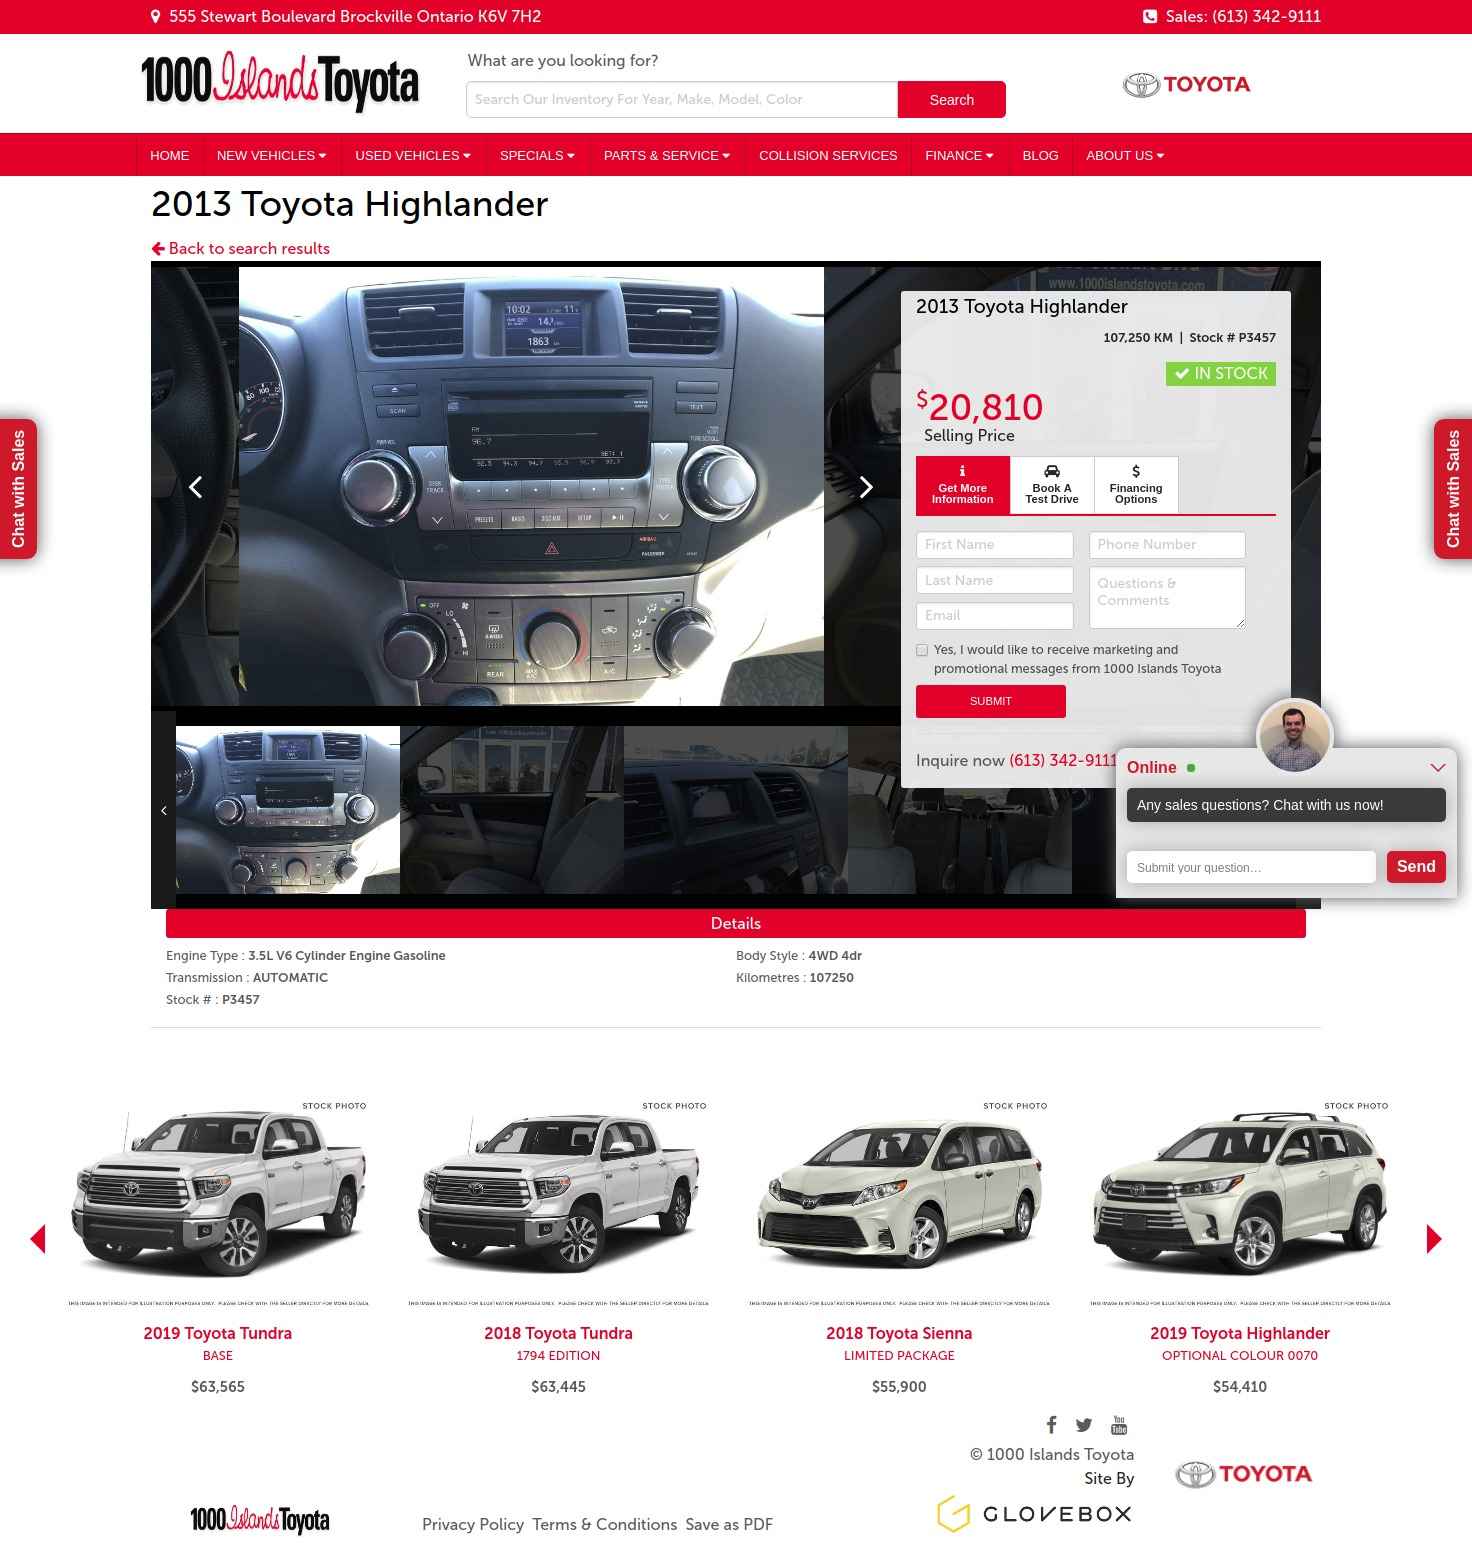car: (853, 471, 880, 504)
